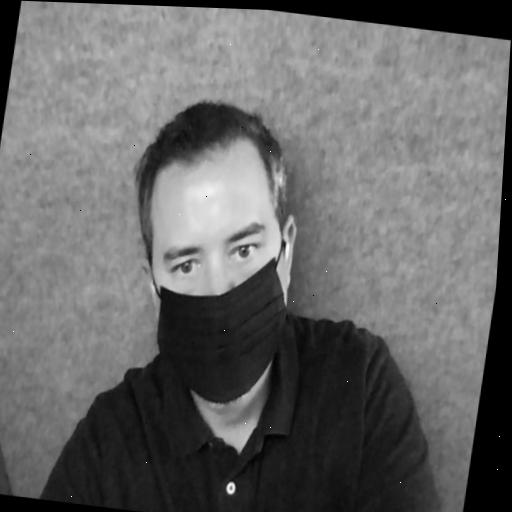mask: (102, 91, 323, 416)
